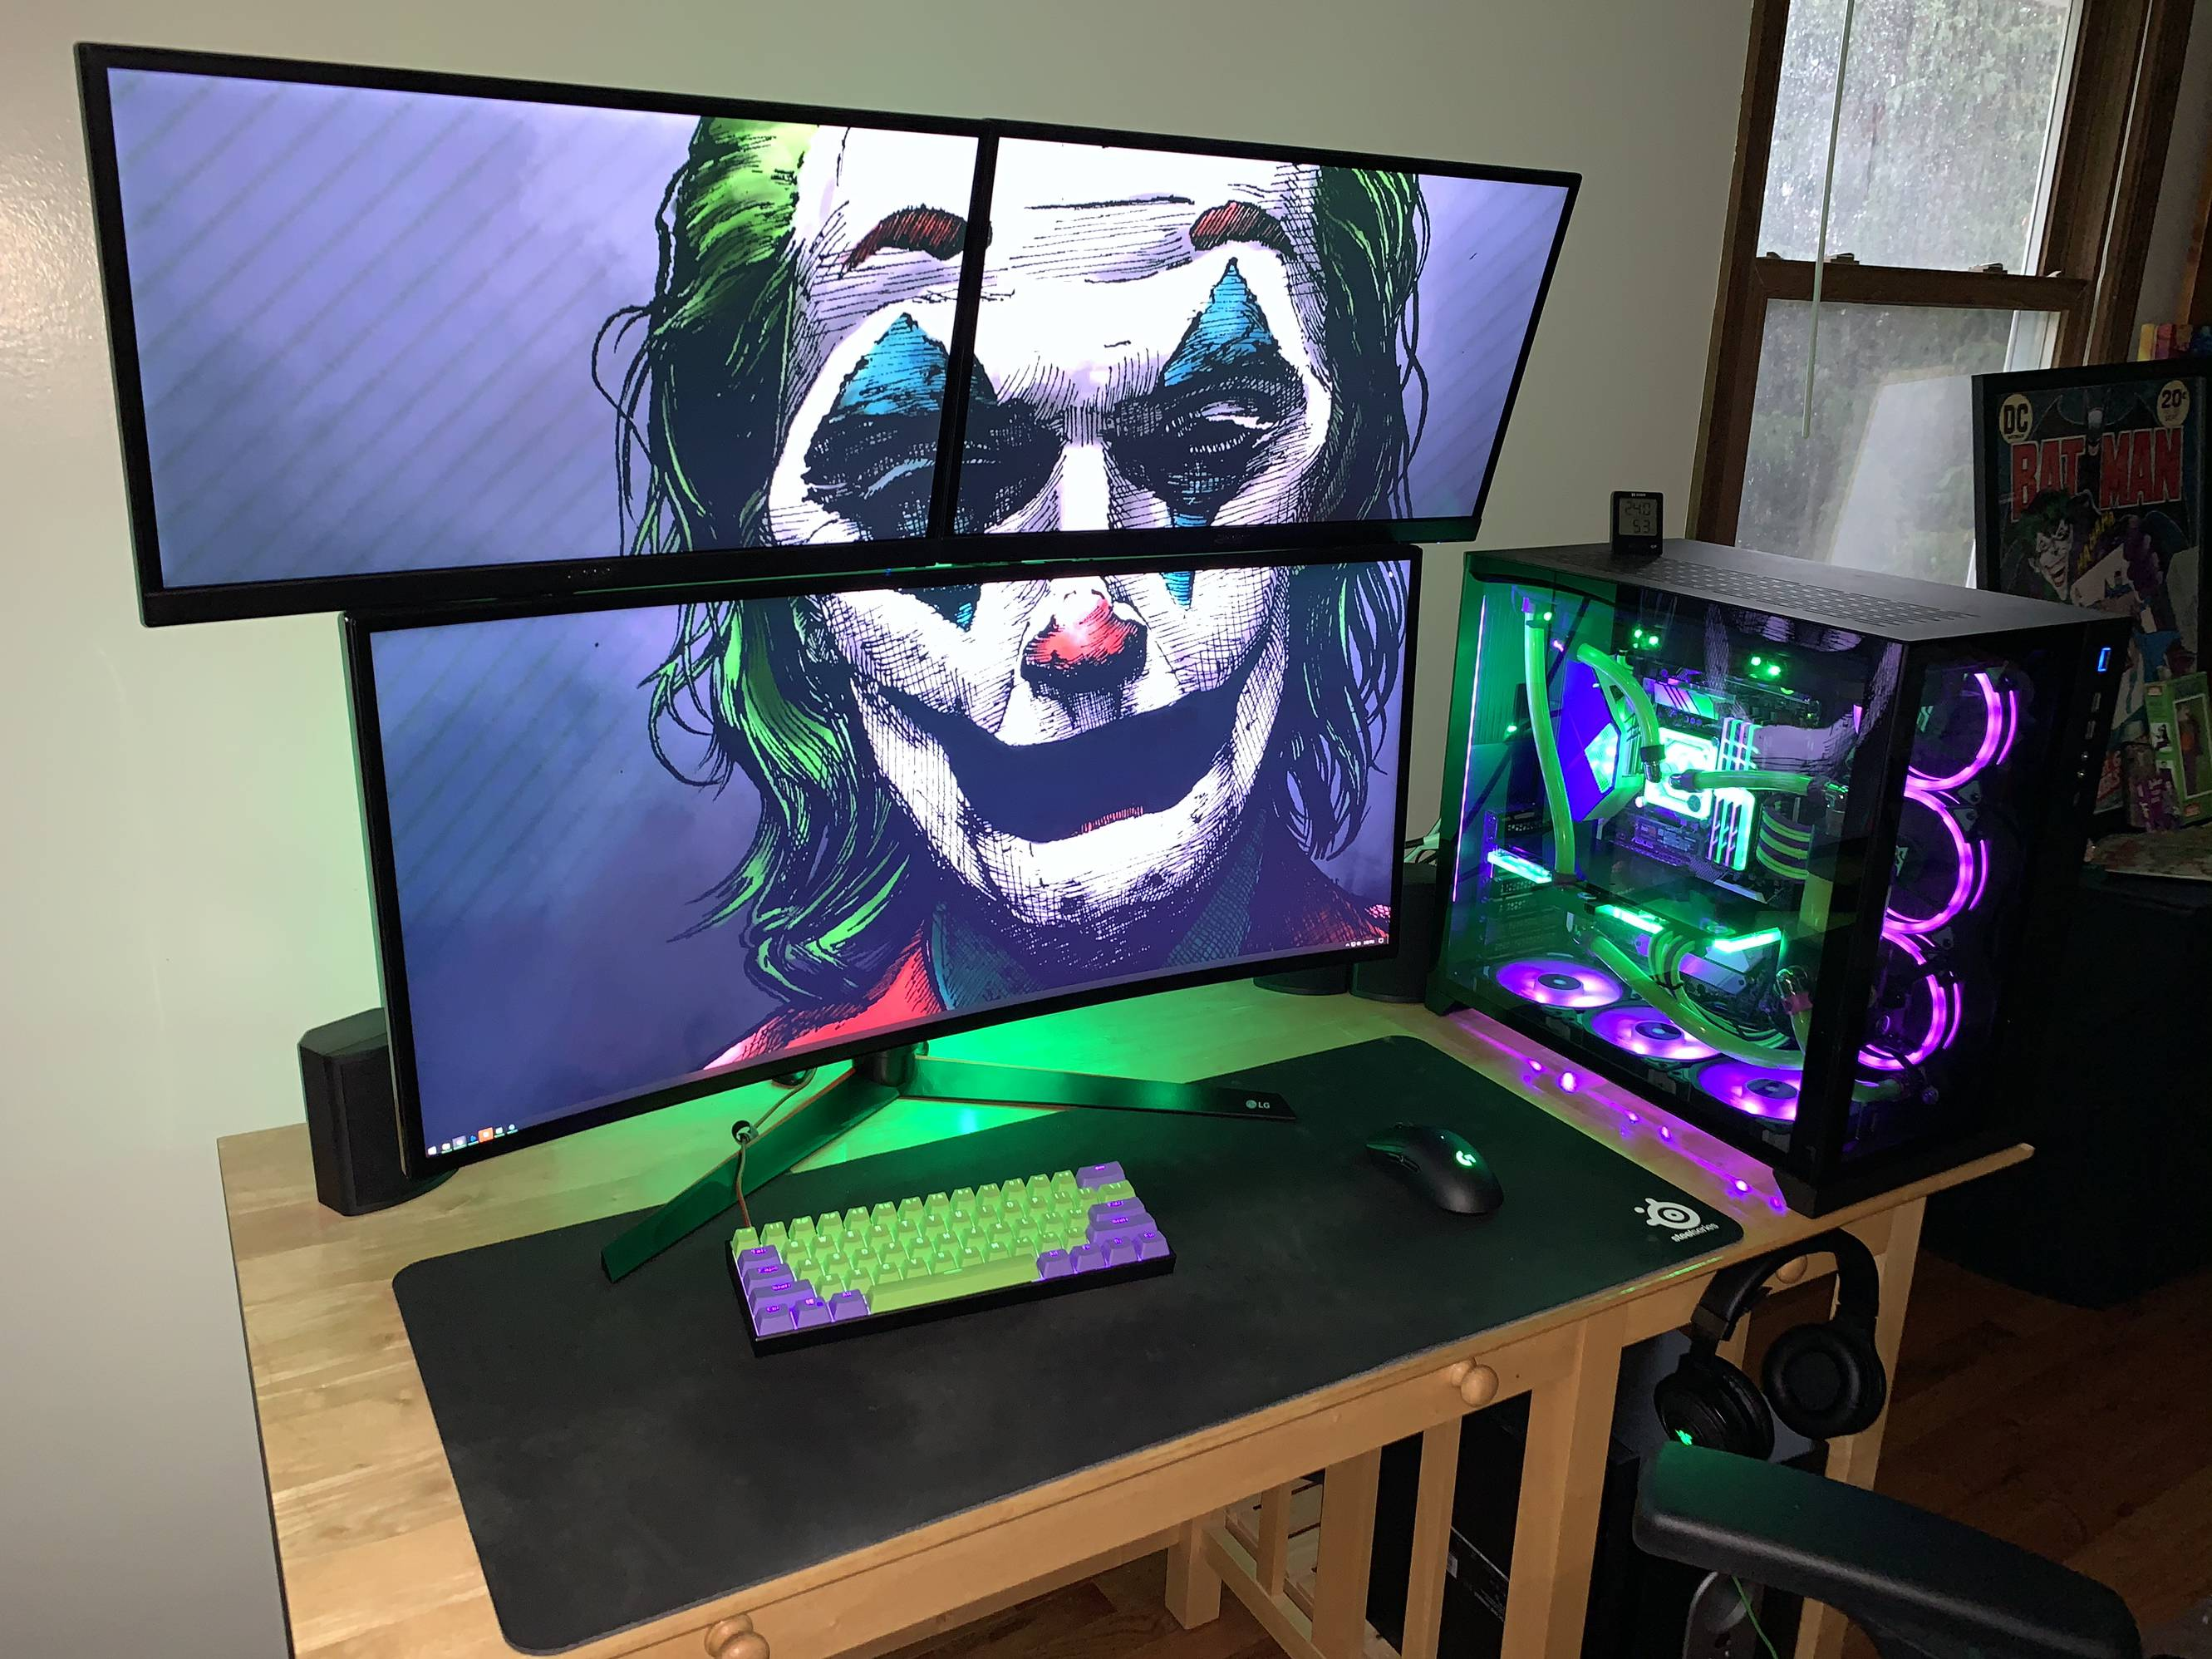Decoration (Picture): (1970, 361, 2212, 835)
Desk (Generic): (214, 938, 2034, 1659)
Desktop (Generic): (1433, 538, 2137, 1208)
Headphones: (1662, 1227, 1897, 1462)
Keyboard (Generic): (723, 1154, 1179, 1349)
Monitor (Landscape): (336, 547, 1420, 1183), (70, 40, 996, 633), (932, 125, 1587, 561)
Mouse (Generic): (1360, 1126, 1503, 1225)
Mousepad (Gaming): (394, 1037, 1747, 1656)
